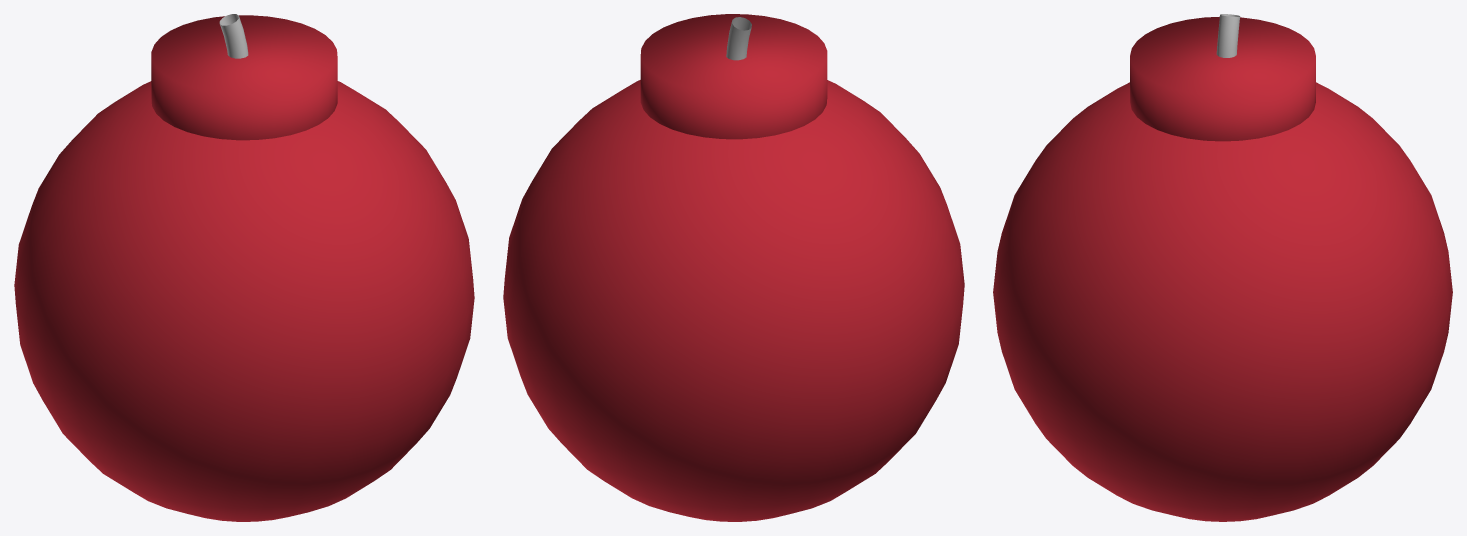
File: akabakudan.fbx
3 views of the same model, side by side, from view 1: azimuth 30°, elevation 25°; view 2: azimuth 150°, elevation 25°; view 3: azimuth 270°, elevation 25° (orthographic).
Parts seen in each view (by area): view 1: bakudan; view 2: bakudan; view 3: bakudan.
Part boxes in pixels (x1,y1,x2,y2): bakudan: (14, 14, 474, 521); bakudan: (503, 14, 964, 521); bakudan: (993, 14, 1452, 521).
Size of the model in its own units: 200 by 232 by 200.
